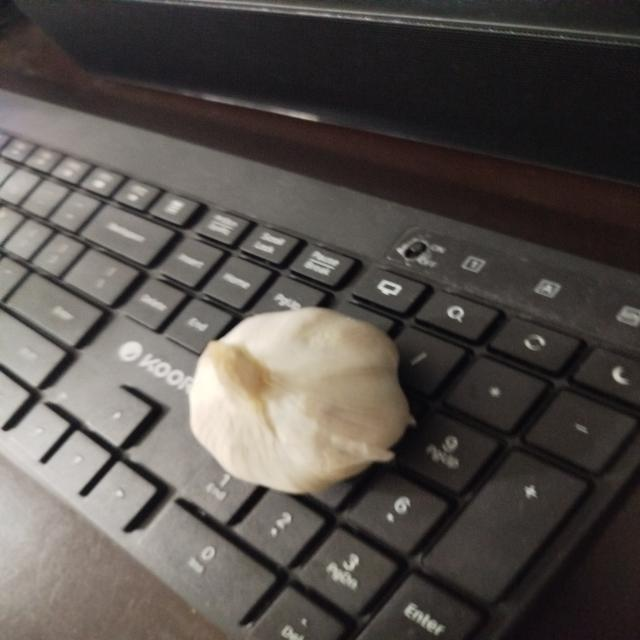garlic: (187, 306, 417, 495)
